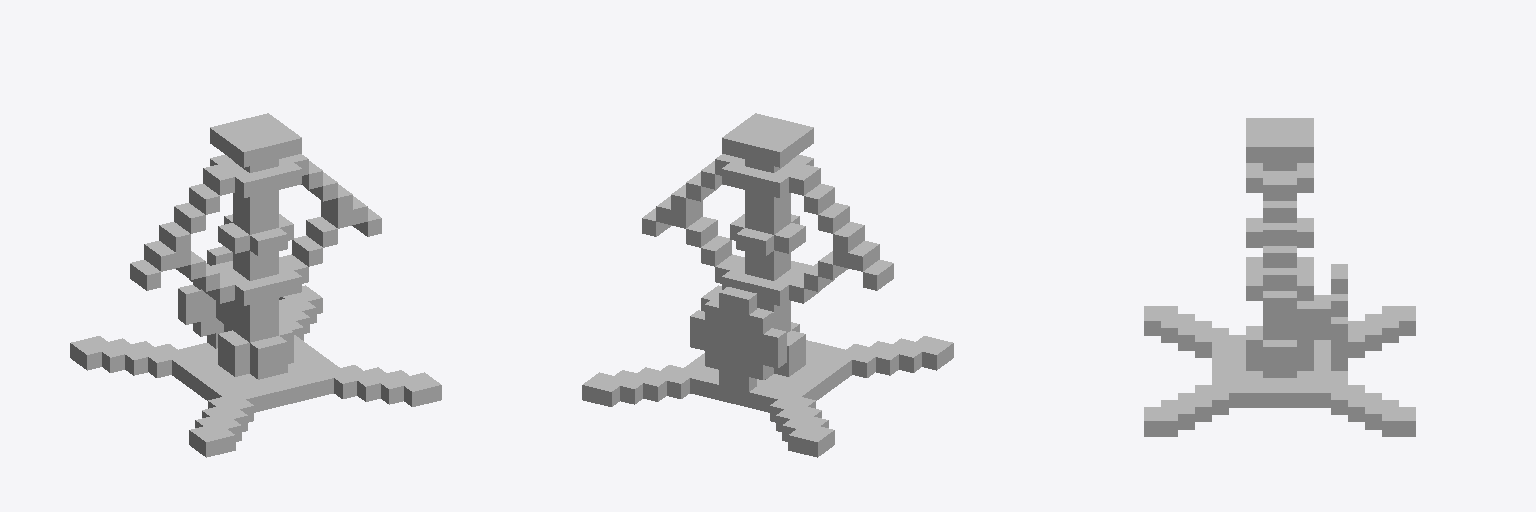
File: power_generators_shaft_rpm_meter_watt.obj
3 renders of one model, left to right at view 1: azimuth 30°, elevation 25°; view 2: azimuth 150°, elevation 25°; view 3: azimuth 270°, elevation 25°, orthographic.
Parts seen in each view (by area): view 1: node_0_0_0.004; view 2: node_0_0_0.004; view 3: node_0_0_0.004.
Part boxes in pixels (x1,y1,x2,y2): node_0_0_0.004: (70,113,441,457); node_0_0_0.004: (582,113,953,457); node_0_0_0.004: (1144,118,1415,436).
Size of the model in its own units: 1 by 1 by 1.